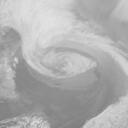cyclone: (22, 30, 100, 82)
